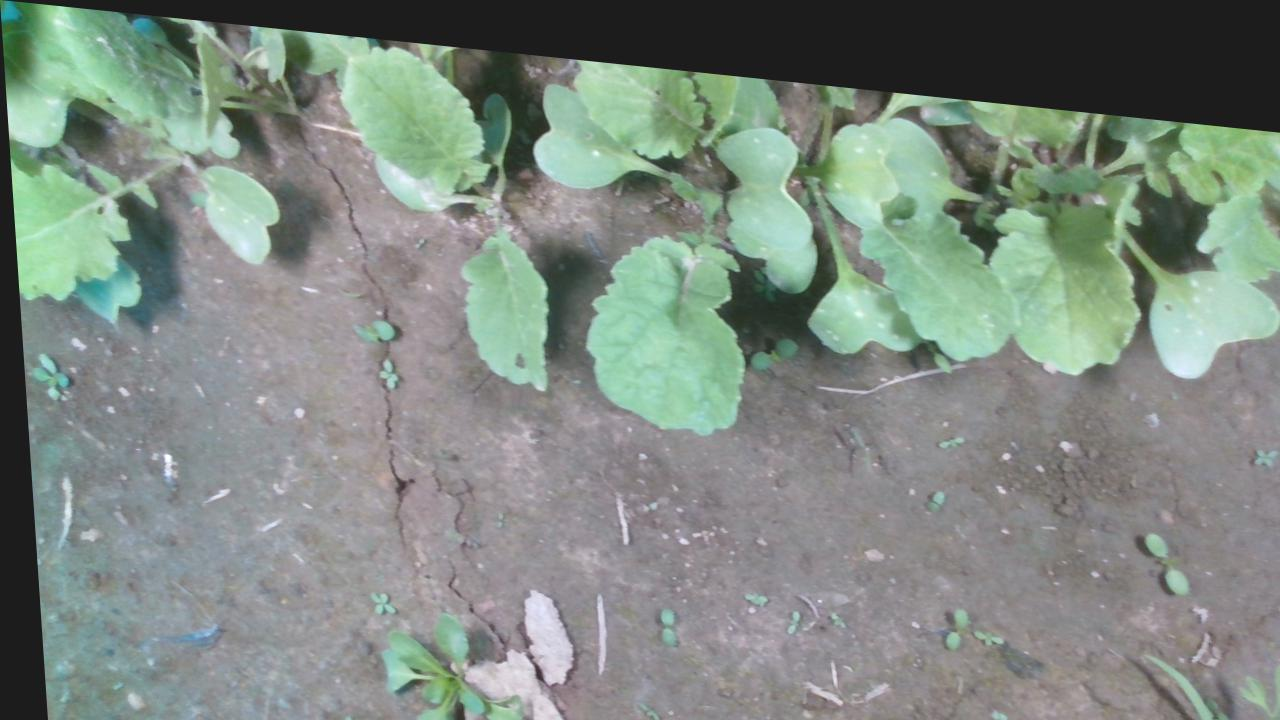weed: (1135, 505, 1183, 571), (742, 315, 796, 357), (22, 350, 64, 402), (340, 306, 395, 338), (934, 585, 963, 631), (647, 593, 671, 632), (371, 348, 397, 381), (358, 581, 388, 609), (1244, 417, 1276, 441), (929, 411, 961, 432), (919, 467, 941, 496), (966, 608, 996, 627), (777, 591, 792, 619)
